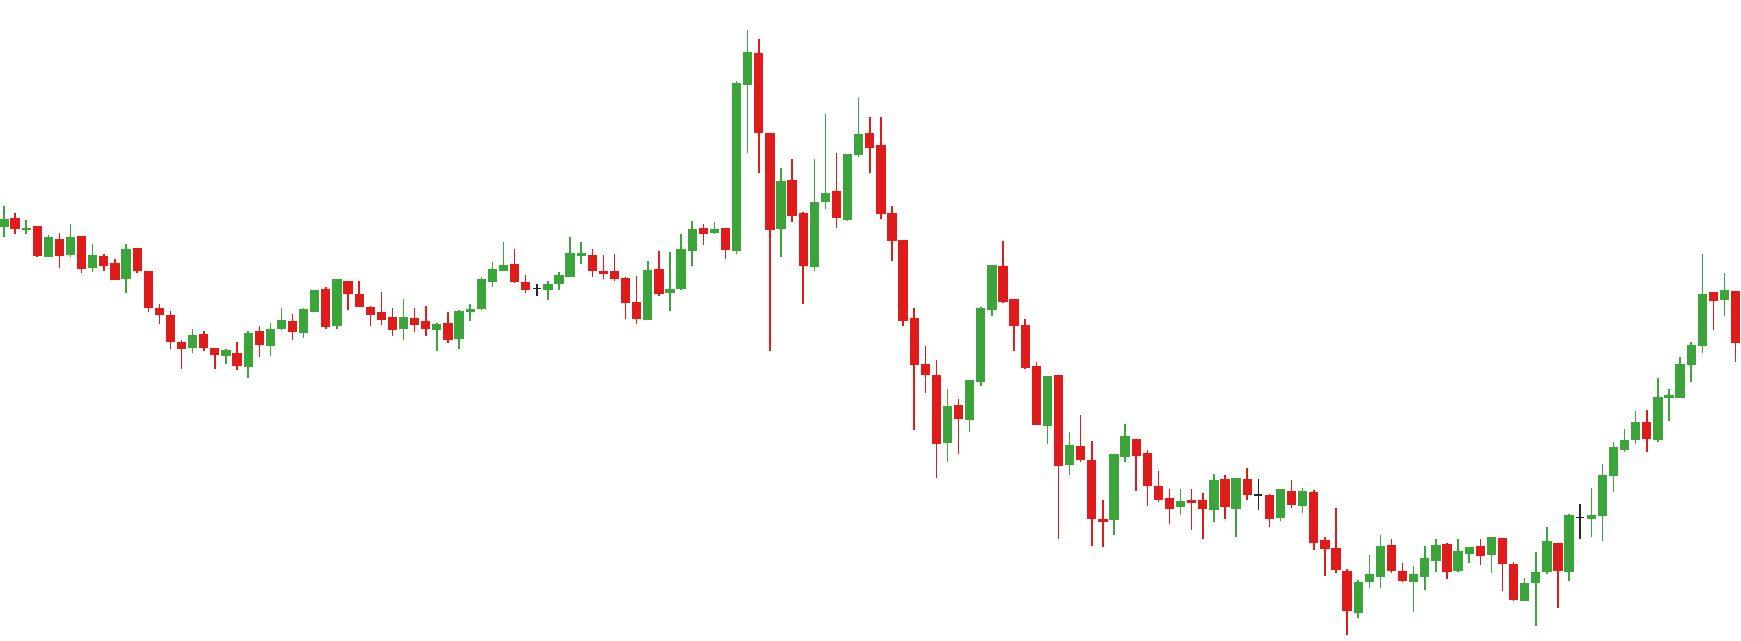buy: (1407, 560, 1540, 622), (522, 266, 654, 327)
